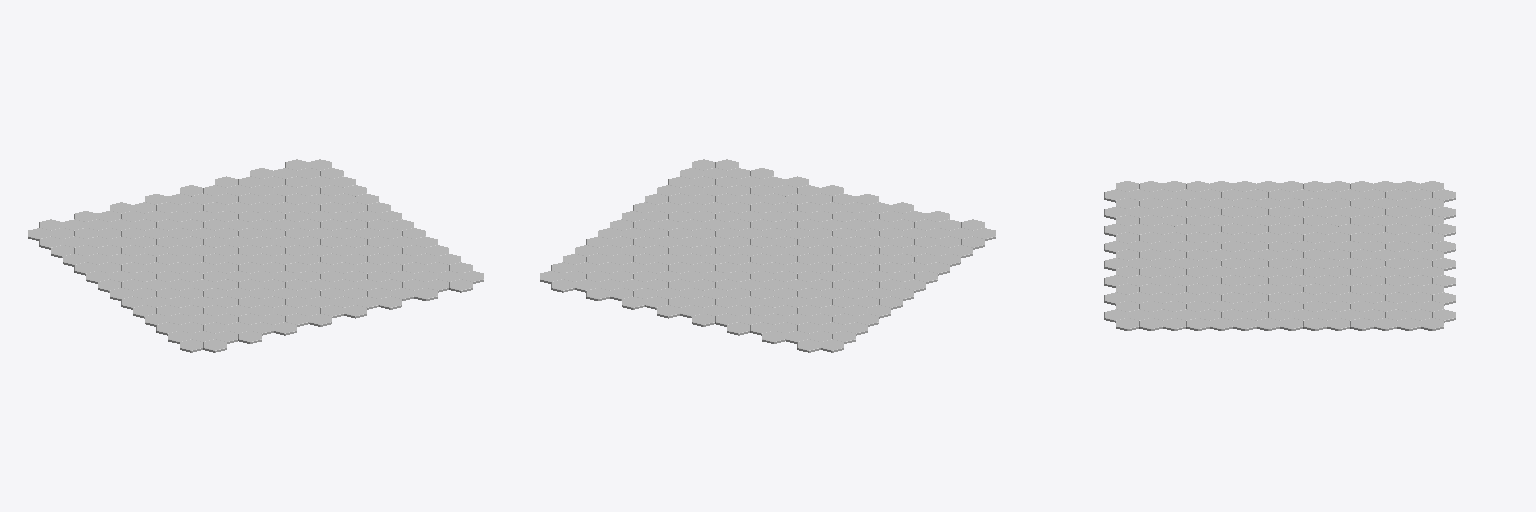
Rendered from revampedmap.obj.
3 views of the same model, side by side, from view 1: azimuth 30°, elevation 25°; view 2: azimuth 150°, elevation 25°; view 3: azimuth 270°, elevation 25° (orthographic).
Size of the model in its own units: 25.98 by 0.18 by 25.98.